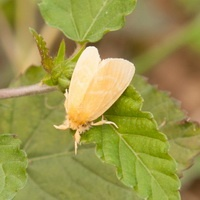insect: (54, 46, 134, 154)
